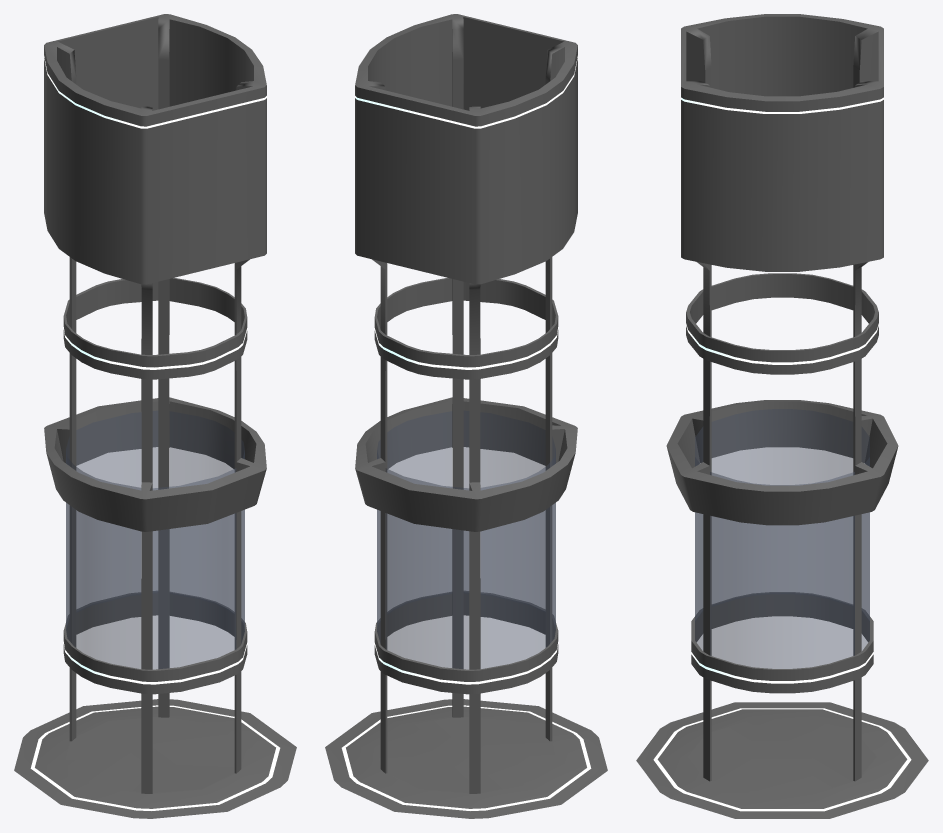
The model's file is Elevator_Structure.fbx.
3 views of the same model, side by side, from view 1: azimuth 30°, elevation 25°; view 2: azimuth 150°, elevation 25°; view 3: azimuth 270°, elevation 25° (orthographic).
Visible parts, largest first — view 1: Elevator_Sctructure; view 2: Elevator_Sctructure; view 3: Elevator_Sctructure.
Part boxes in pixels (x1=…): Elevator_Sctructure: x1=14, y1=14, x2=296, y2=818; Elevator_Sctructure: x1=325, y1=14, x2=607, y2=818; Elevator_Sctructure: x1=636, y1=14, x2=928, y2=818.
Size of the model in its own units: 508 by 1432 by 538.
